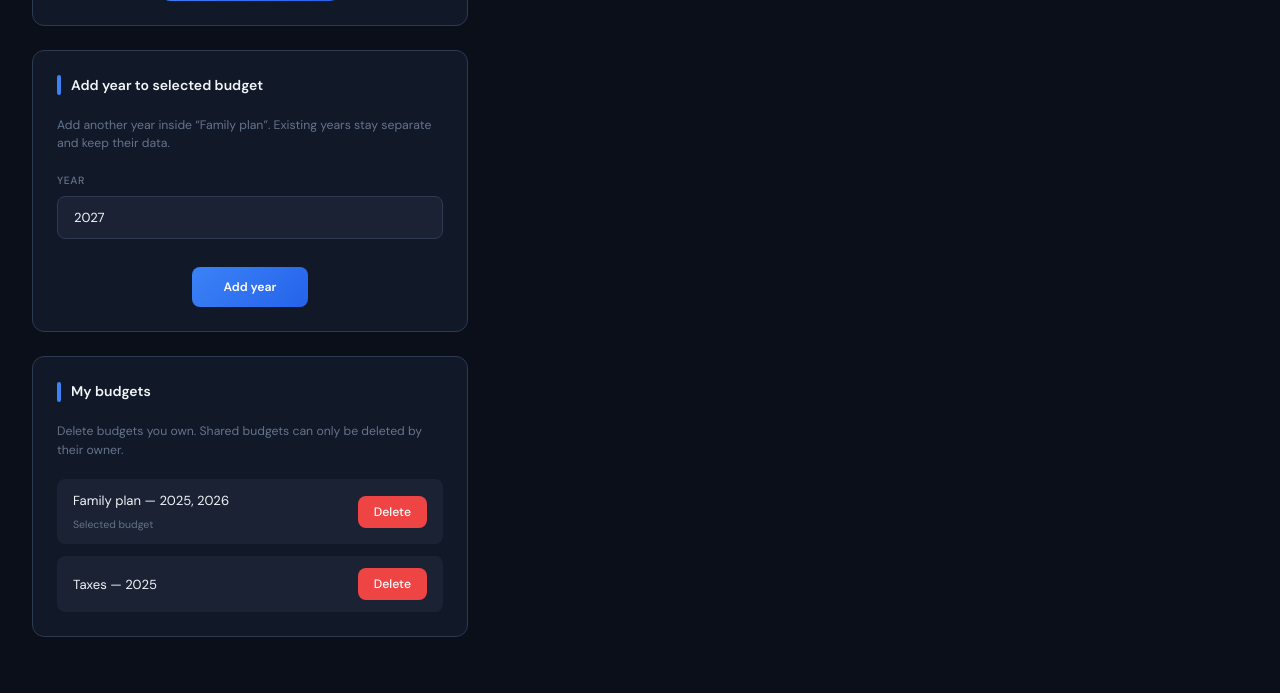
Test: budget deletion settings › asks for confirmation with the selected budget name and year before deleting
The width and height of the screenshot is (1280, 693).
(page scrolled)
Click the button "Delete" in the row of "Taxes — 2025".
click(392, 584)  # box 358,568 -> 427,600
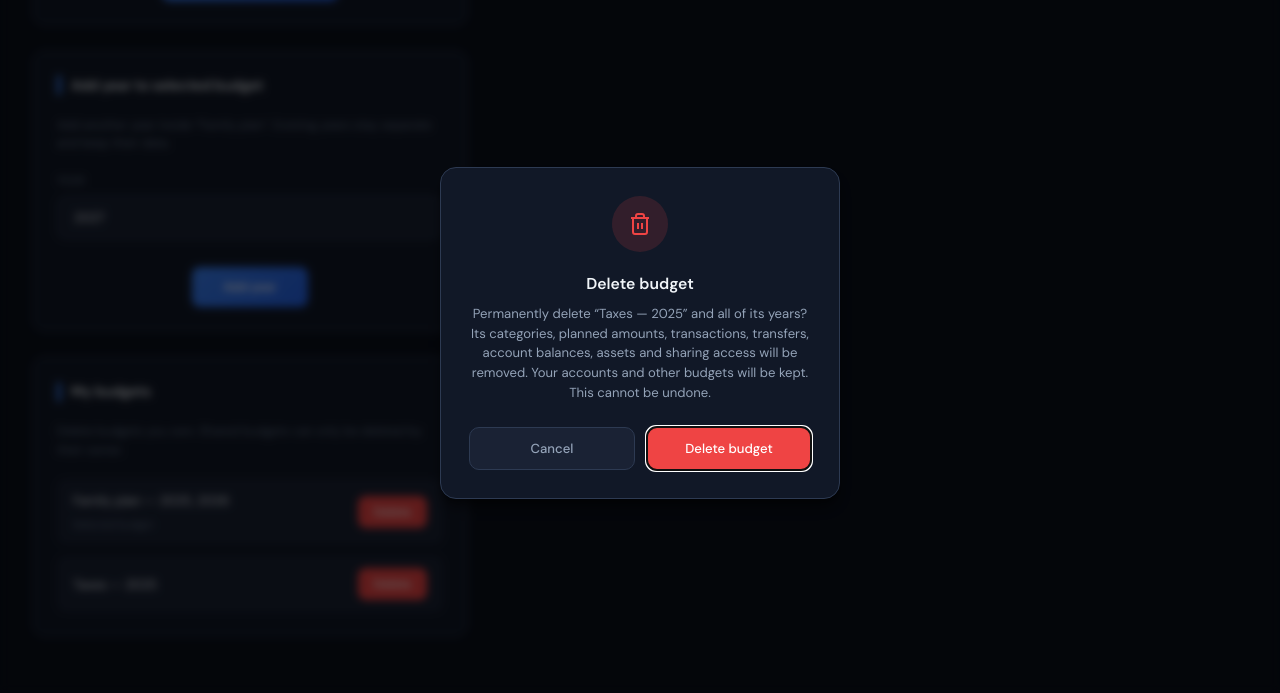
Now the dialog shows "Permanently delete", box 471,305 -> 809,401
Now the dialog shows "Taxes — 2025", box 471,305 -> 809,401
Now the dialog shows "all of its years", box 471,305 -> 809,401
